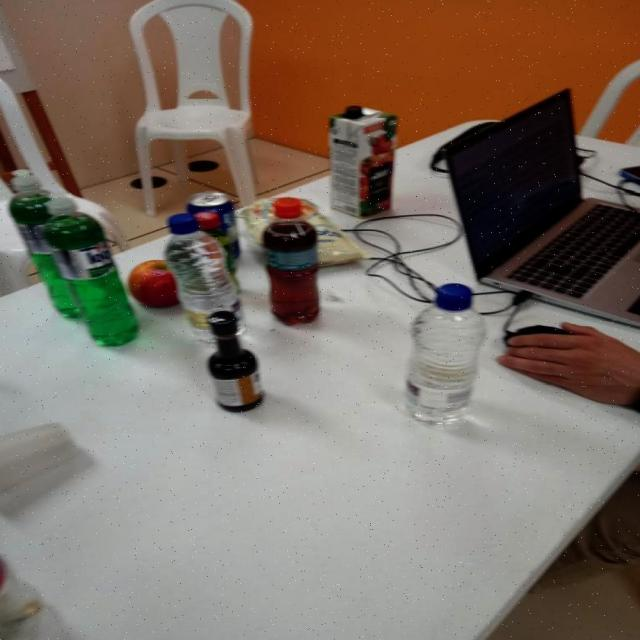Apple: (128, 257, 181, 308)
Cleaner: (44, 196, 142, 352), (3, 173, 80, 318)
CornFlakes: (237, 197, 366, 270)
EnglishSauce: (205, 310, 263, 415)
Guarana: (198, 214, 234, 274)
IceTea: (262, 198, 320, 326)
Tonic: (185, 193, 240, 257)
Water: (402, 281, 485, 425), (163, 213, 241, 328)
